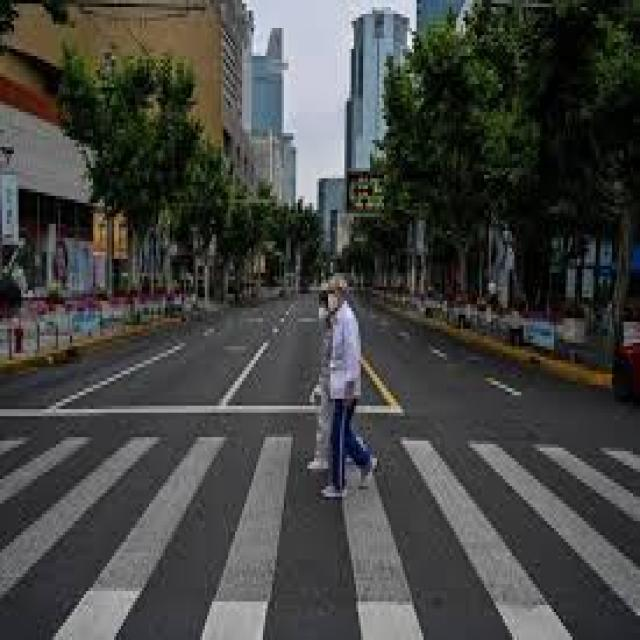Pedestrians: (312, 272, 377, 503)
